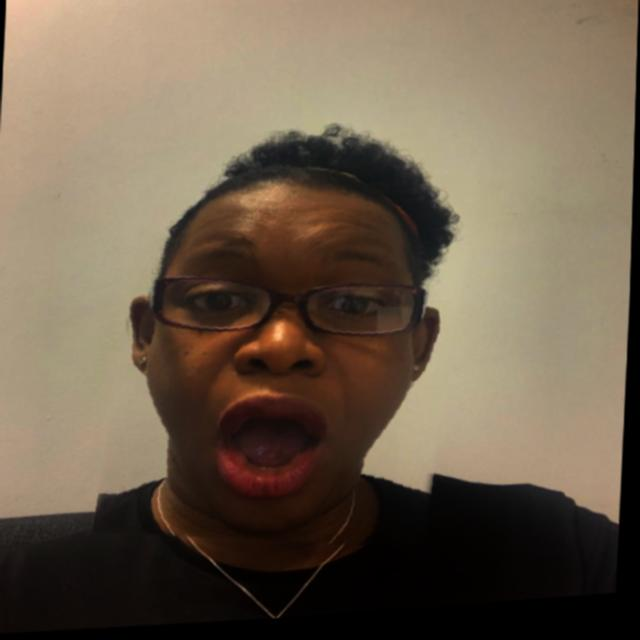happy: (105, 119, 476, 566)
